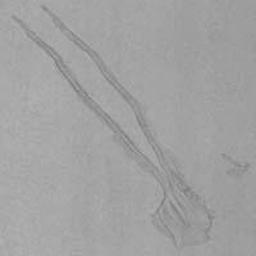Water spot: (12, 5, 216, 251), (220, 152, 251, 178)
